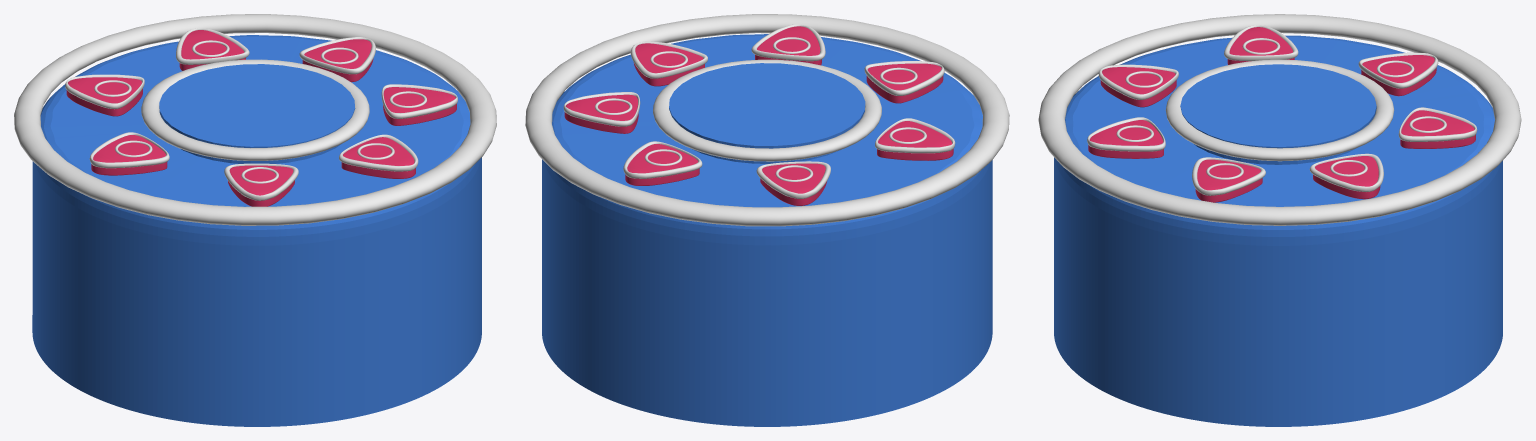
Rendered from Pinball en Circv.fbx.
The picture shows the model from 3 angles, left to right: view 1: azimuth 30°, elevation 25°; view 2: azimuth 150°, elevation 25°; view 3: azimuth 270°, elevation 25°; orthographic projection.
Visible parts, largest first — view 1: Cylinder.018; view 2: Cylinder.018; view 3: Cylinder.018.
Boxes of the visible parts, <box> form: Cylinder.018: <box>14,14,496,426</box>; Cylinder.018: <box>525,14,1009,426</box>; Cylinder.018: <box>1038,14,1521,426</box>.
Bounding box in the file's own units: 66.76 × 34.52 × 66.76.
